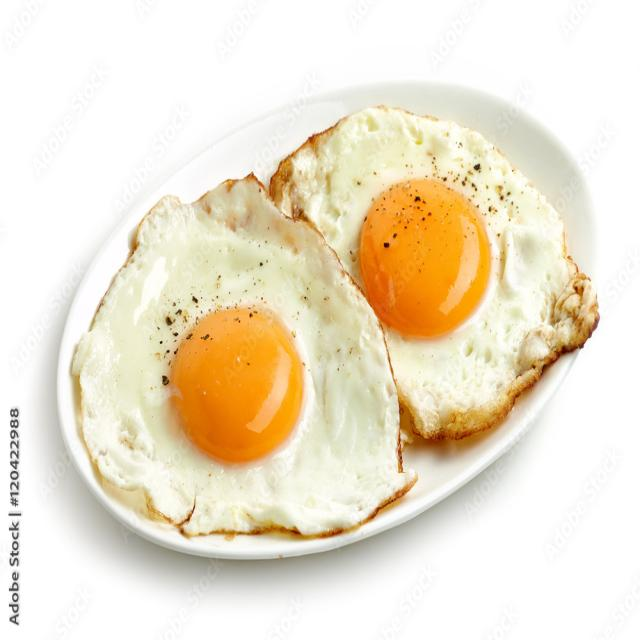Egg: (75, 176, 415, 536), (270, 107, 599, 439)
